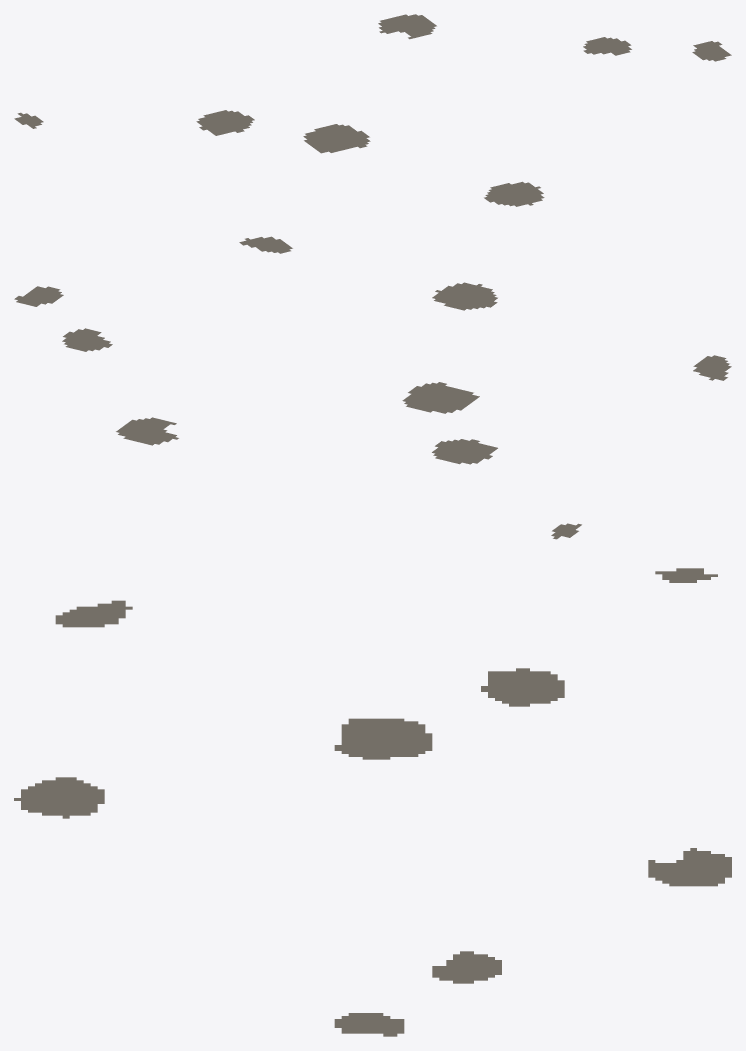
The model's file is Map-3-RocksArea.fbx.
3 renders of one model, top to bottom at view 1: azimuth 30°, elevation 25°; view 2: azimuth 150°, elevation 25°; view 3: azimuth 270°, elevation 25°, orthographic. The views are drawn at different scales.
Parts seen in each view (by area): view 1: Map-3-RocksArea; view 2: Map-3-RocksArea; view 3: Map-3-RocksArea.
Boxes of the visible parts, x1=… form: Map-3-RocksArea: x1=14, y1=14, x2=731, y2=253; Map-3-RocksArea: x1=14, y1=282, x2=731, y2=539; Map-3-RocksArea: x1=14, y1=568, x2=731, y2=1036.
Bounding box in the file's own units: 159 × 0 × 103.
